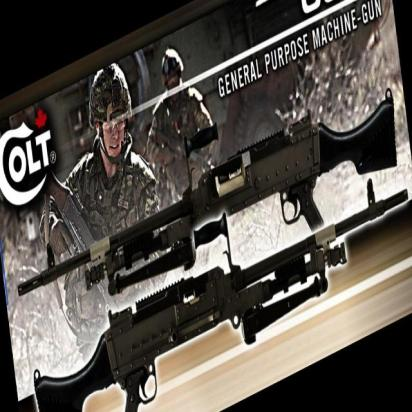Gun: (27, 174, 412, 412), (16, 87, 394, 302)
